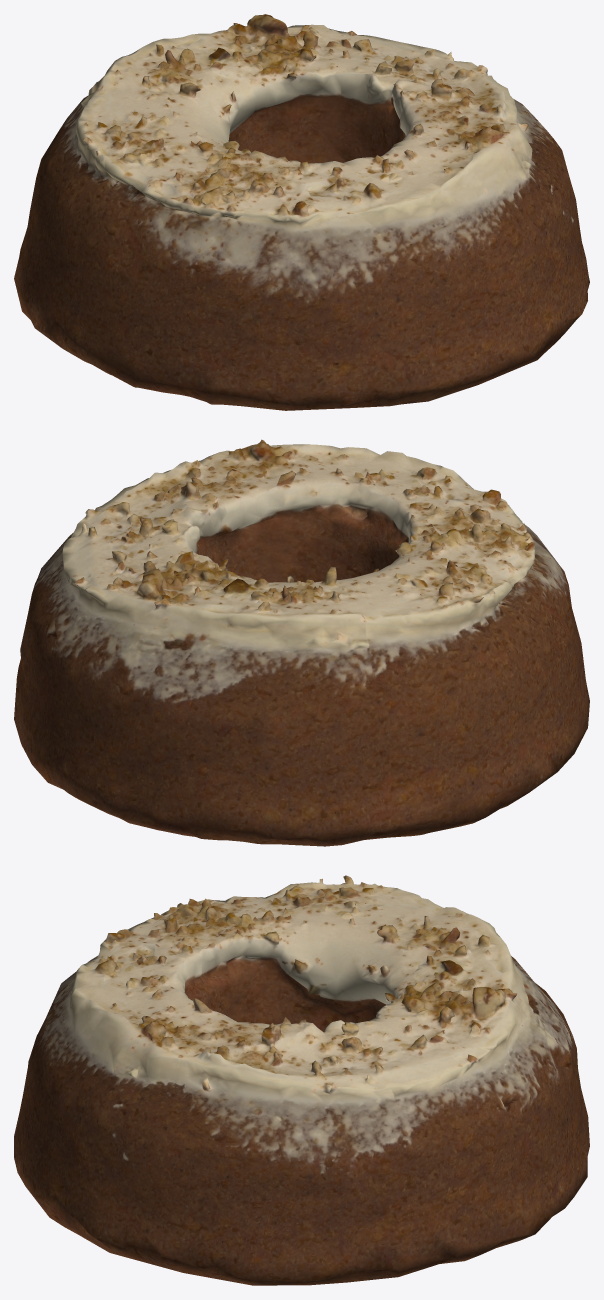
File: carrot_cake.glb
3 views of the same model, one above another, from view 1: azimuth 30°, elevation 25°; view 2: azimuth 150°, elevation 25°; view 3: azimuth 270°, elevation 25° (orthographic). The views are drawn at different scales.
Visible parts, largest first — view 1: carrot_cake; view 2: carrot_cake; view 3: carrot_cake.
Part boxes in pixels (left/top/right/bottom): carrot_cake: left=14, top=14, right=589, bottom=410; carrot_cake: left=14, top=439, right=589, bottom=846; carrot_cake: left=14, top=875, right=589, bottom=1285.
Bounding box in the file's own units: 0.2254 × 0.0976 × 0.2254.
Materials: 1 (1 with a texture image).
